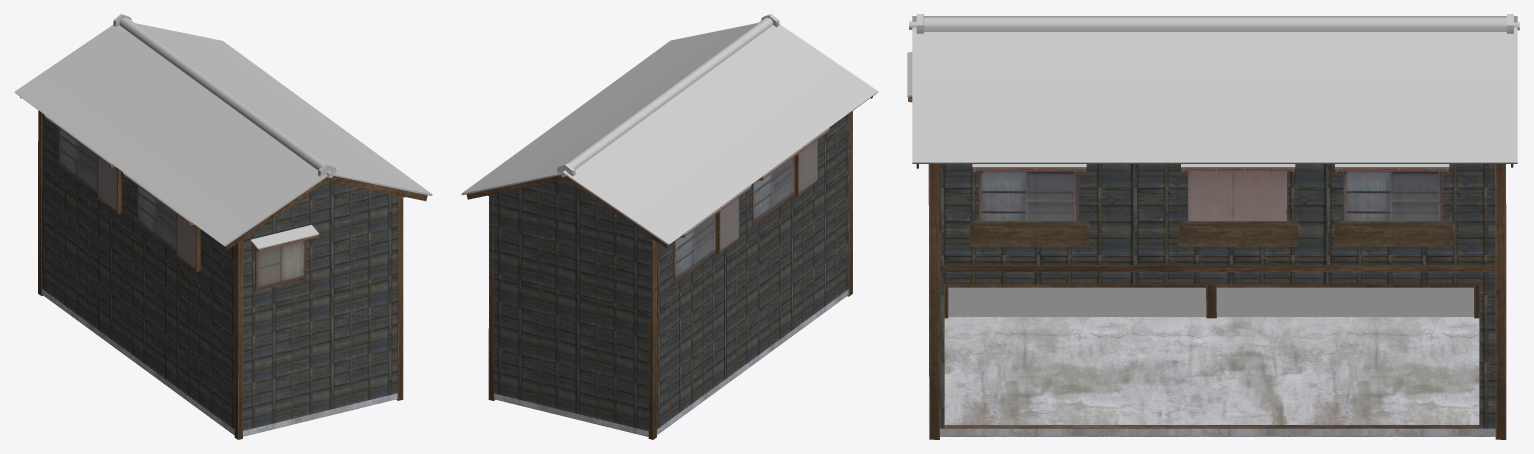
3 views of the same model, side by side, from view 1: azimuth 30°, elevation 25°; view 2: azimuth 150°, elevation 25°; view 3: azimuth 270°, elevation 25° (orthographic). The views are drawn at different scales.
Visible parts, largest first — view 1: ms_h01k_2a; view 2: ms_h01k_2a; view 3: ms_h01k_2a.
Part boxes in pixels (left/top/right/bottom): ms_h01k_2a: left=14, top=14, right=432, bottom=439; ms_h01k_2a: left=461, top=14, right=878, bottom=439; ms_h01k_2a: left=907, top=14, right=1519, bottom=439.
Bounding box in the file's own units: 708 × 833 × 1249.
